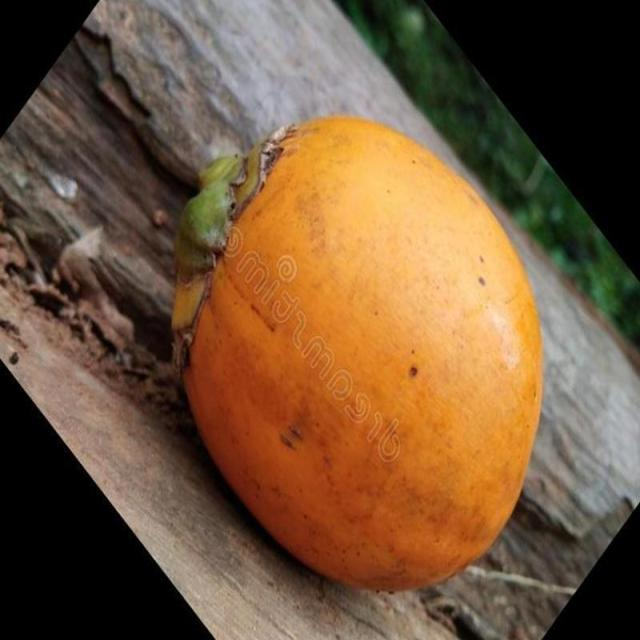good: (181, 116, 544, 596)
